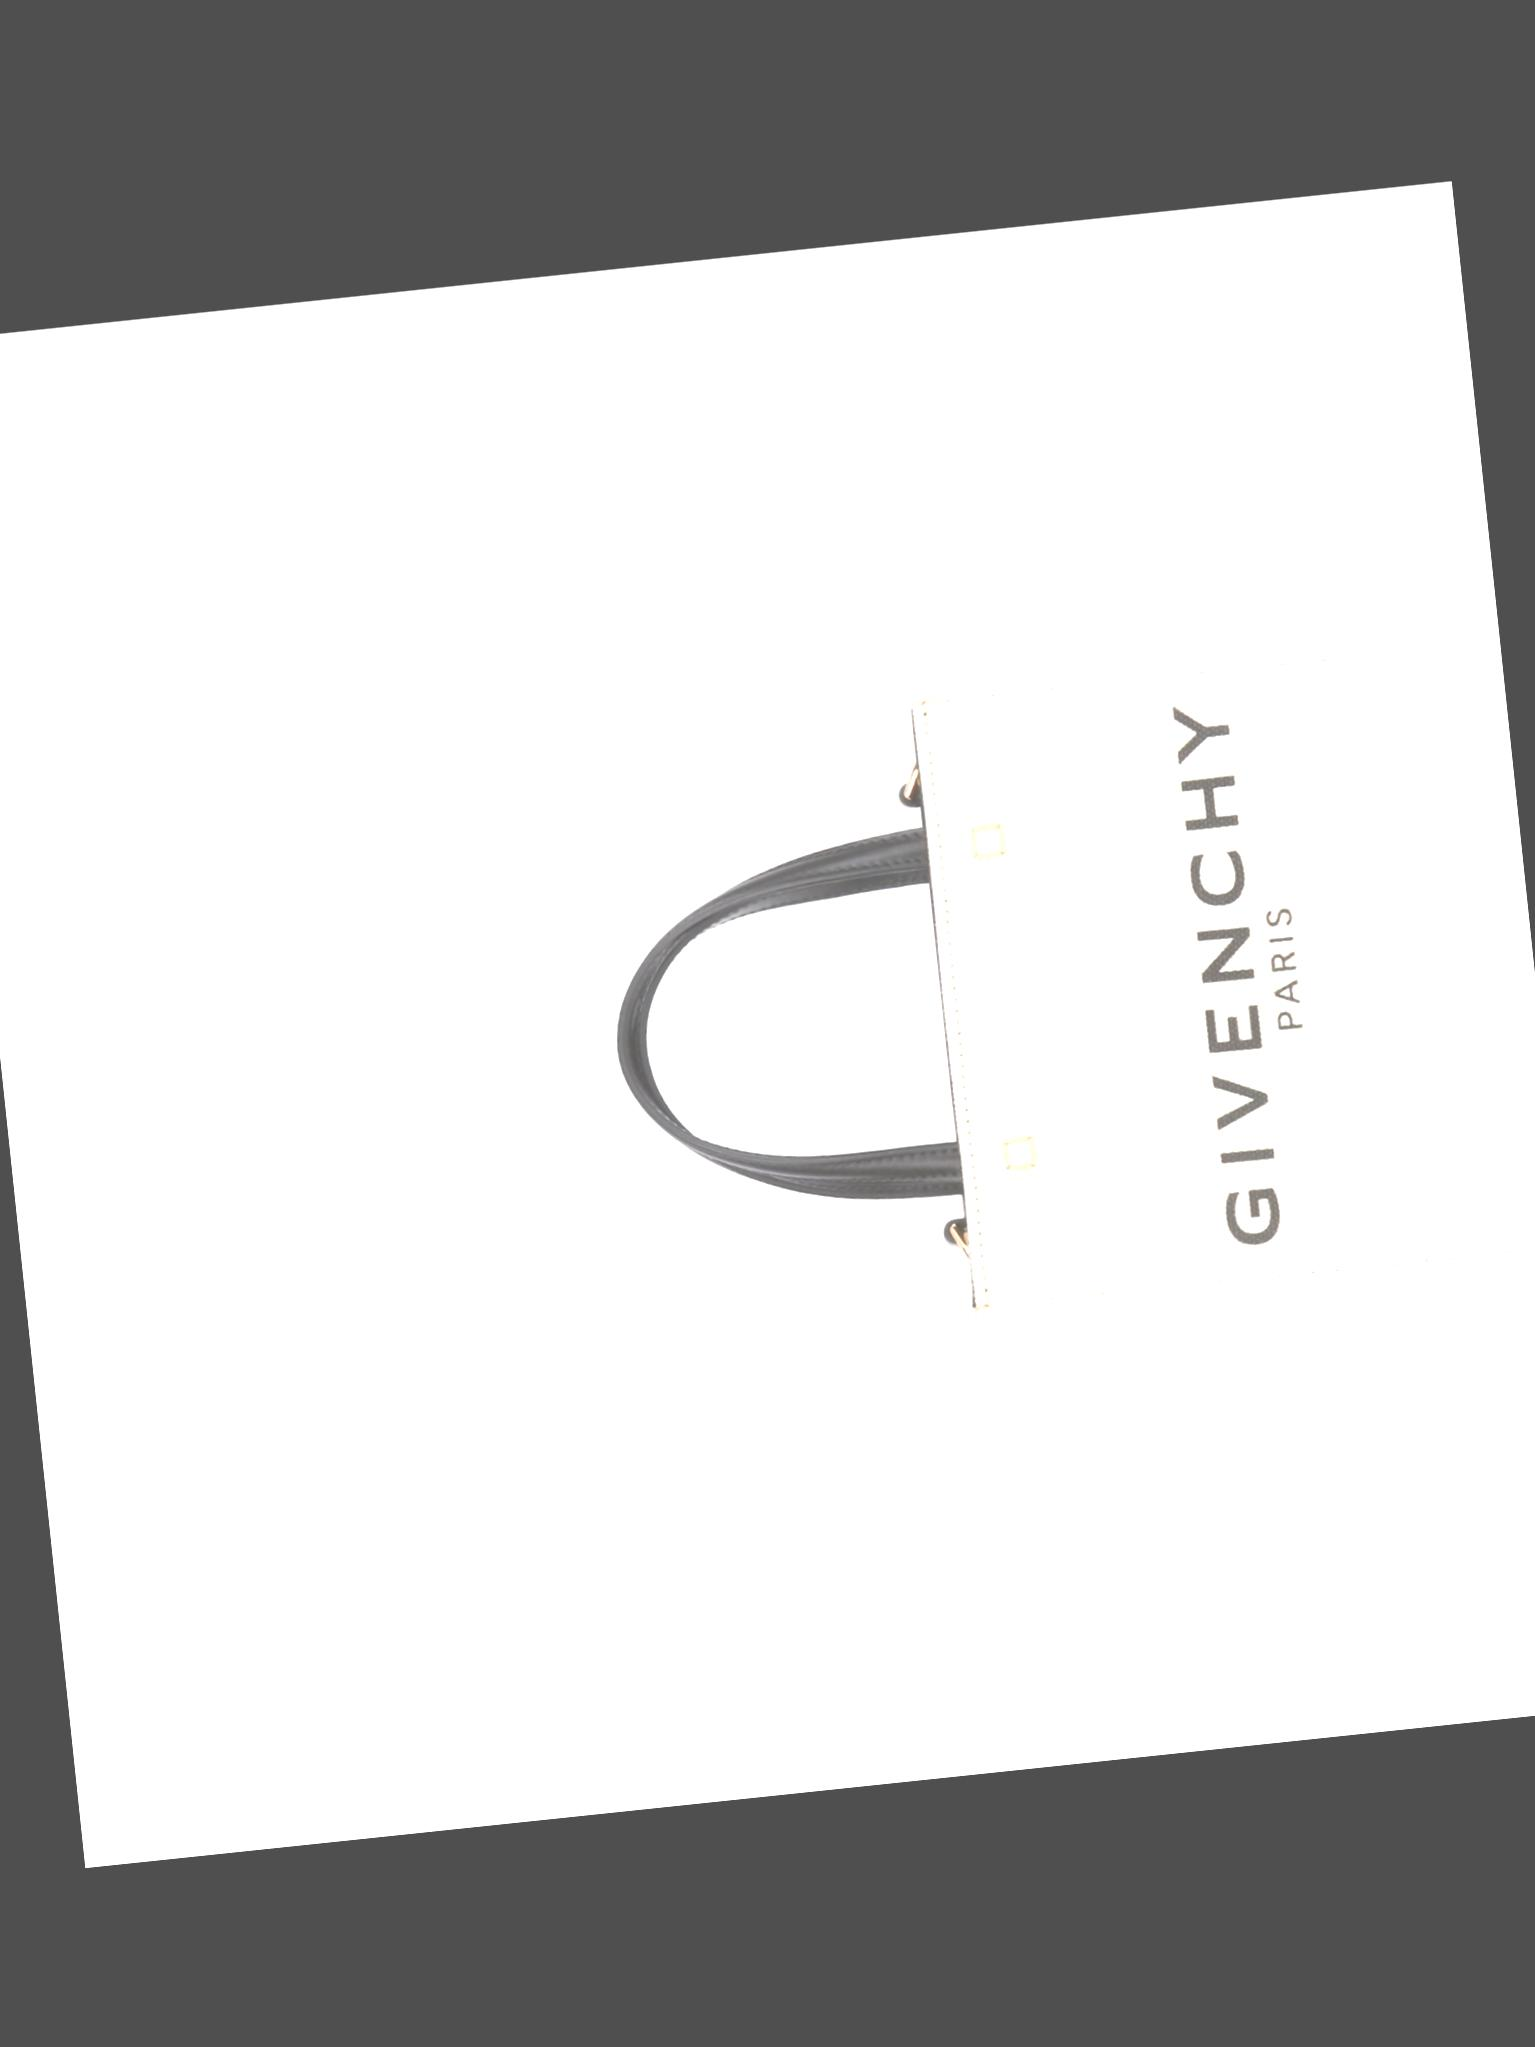GIVENCHY: (1124, 674, 1314, 1273)
